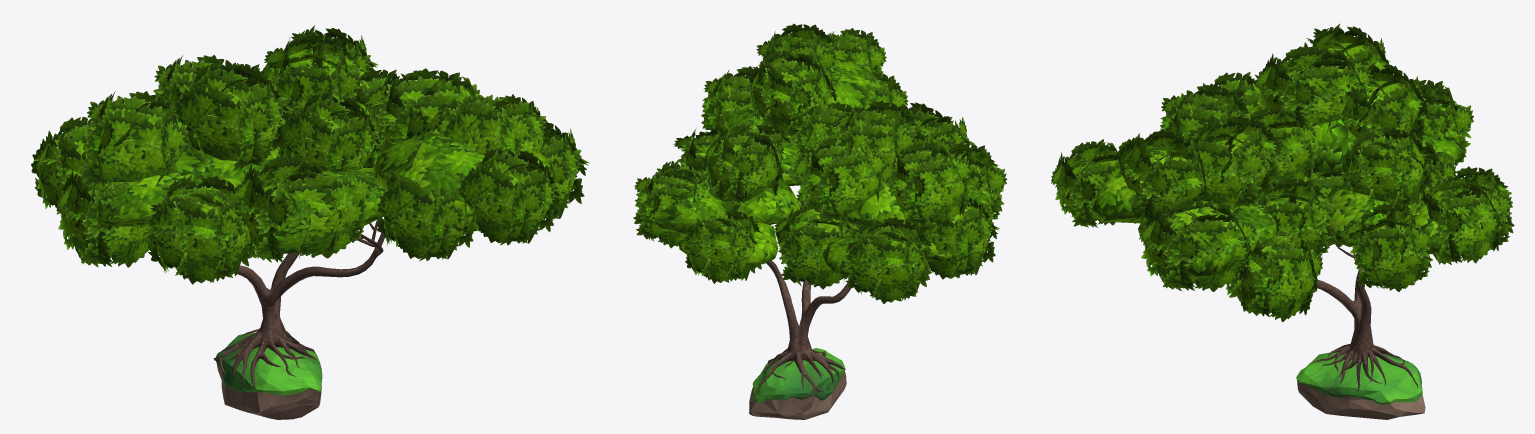
File: LP-Jungle-Tree-1b.fbx
The picture shows the model from 3 angles, left to right: view 1: azimuth 30°, elevation 25°; view 2: azimuth 150°, elevation 25°; view 3: azimuth 270°, elevation 25°; orthographic projection. The views are drawn at different scales.
Parts seen in each view (by area): view 1: Plane.009_Plane.001; view 2: Plane.009_Plane.001; view 3: Plane.009_Plane.001.
Part boxes in pixels (bbox=[...]): Plane.009_Plane.001: bbox=[31, 25, 589, 419]; Plane.009_Plane.001: bbox=[633, 23, 1007, 419]; Plane.009_Plane.001: bbox=[1051, 24, 1514, 419].
Bounding box in the file's own units: 2265 × 1761 × 2339.
3 materials, 3 textured.
